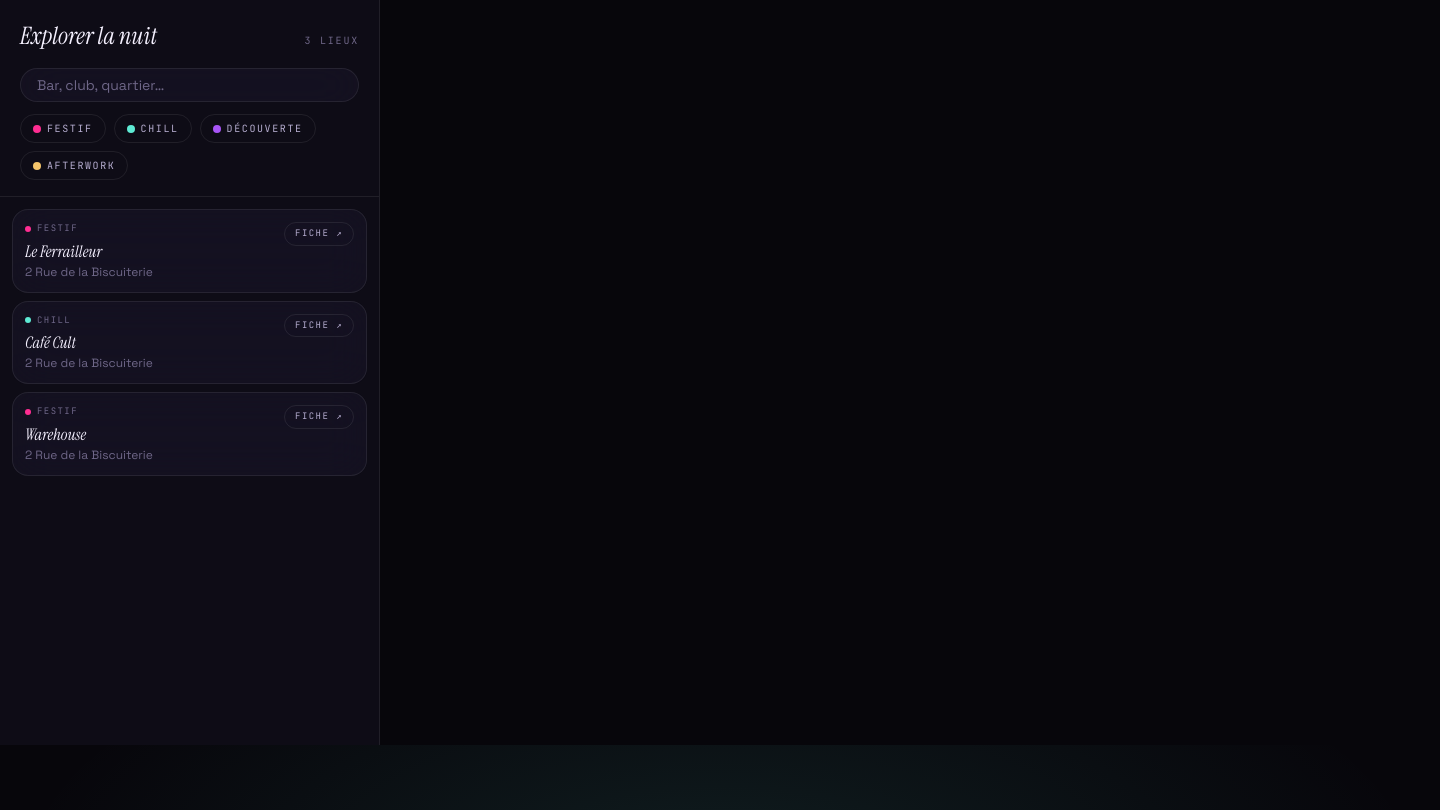
Test: ExplorerPage › filters the list by search query
Step 1. Type "cult" into the search field with placeholder "Bar, club, quartier…" → x=194, y=85, box x1=37 y1=75 x2=352 y2=95
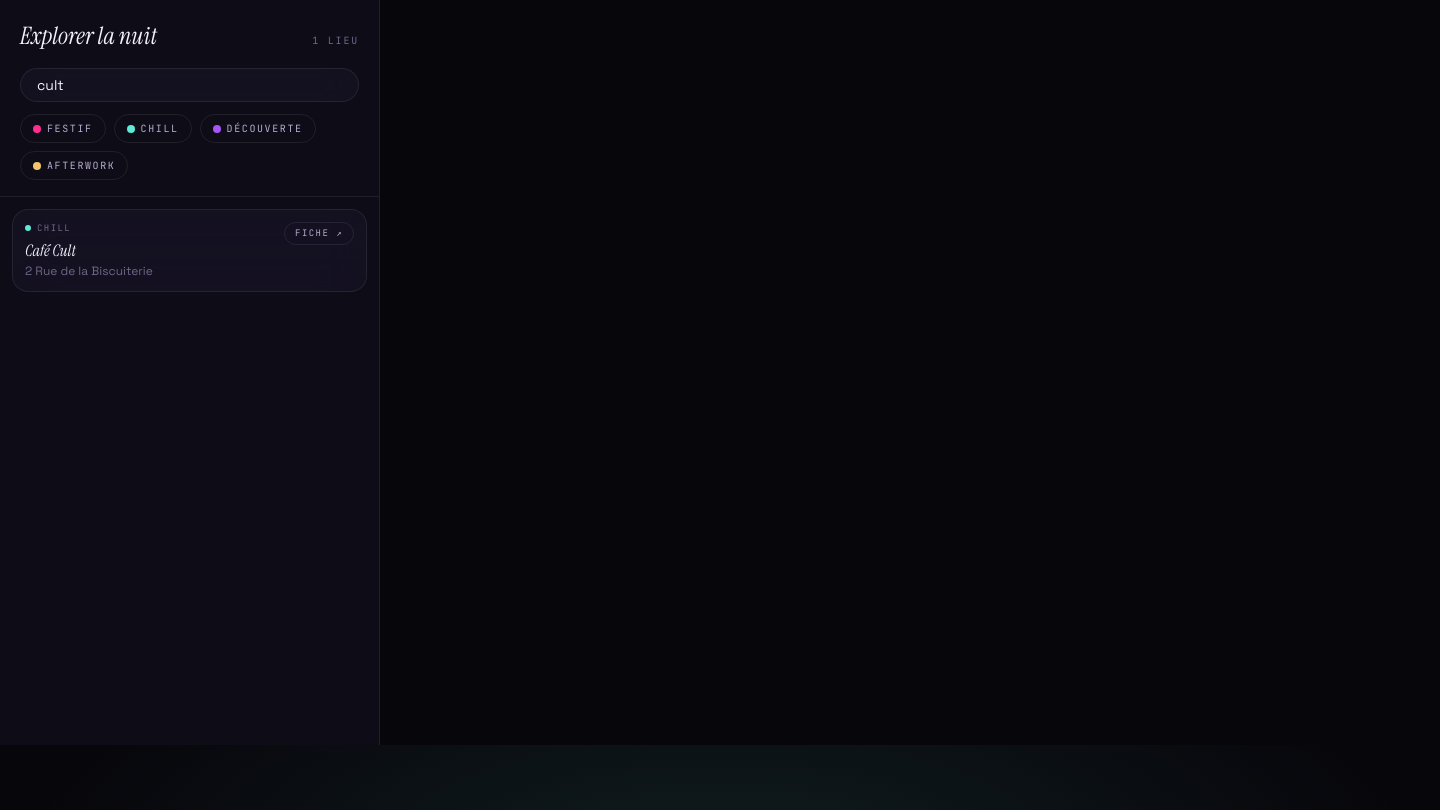
Expected: the list item with test id "explorer-venue" shows "Café Cult", x1=25 y1=222 x2=276 y2=280
Result: the number of list items with test id "explorer-venue" is 1 at x1=12 y1=209 x2=367 y2=292
